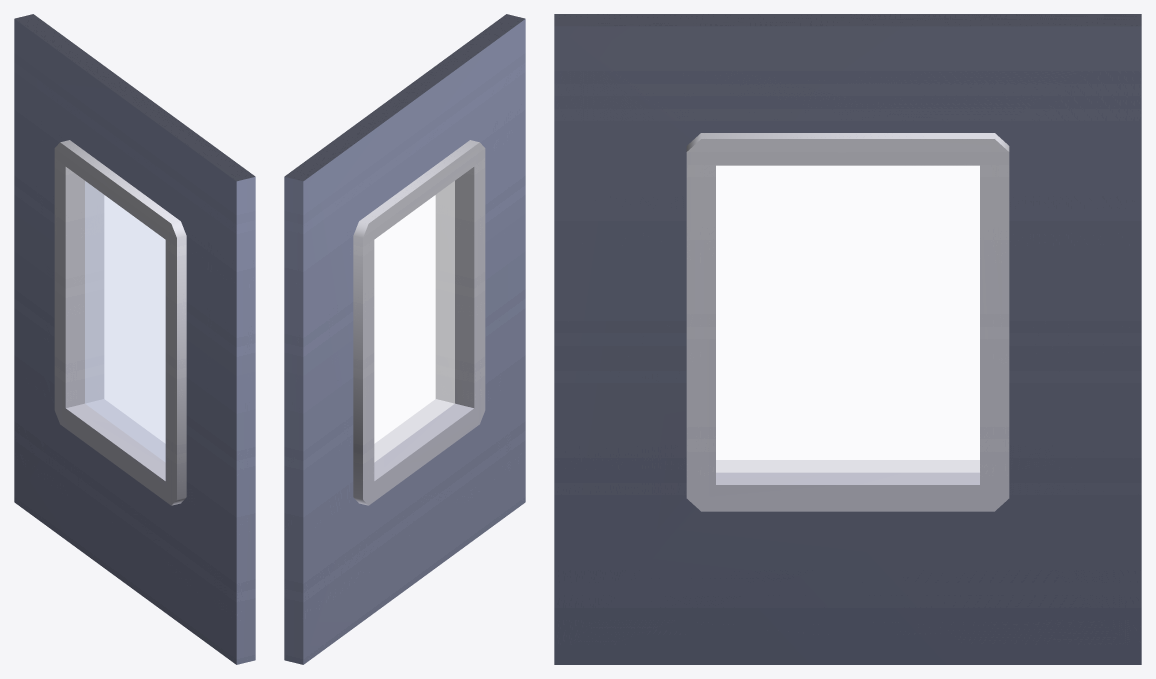
The model's file is wall-window-square.glb.
3 renders of one model, left to right at view 1: azimuth 30°, elevation 25°; view 2: azimuth 150°, elevation 25°; view 3: azimuth 270°, elevation 25°, orthographic. The views are drawn at different scales.
Parts seen in each view (by area): view 1: wall-window-square, (%ignore); view 2: wall-window-square, (%ignore); view 3: wall-window-square, (%ignore).
Boxes of the visible parts, left/top/right/bottom form: wall-window-square: left=14, top=14, right=255, bottom=664; (%ignore): left=85, top=181, right=165, bottom=462; wall-window-square: left=284, top=14, right=525, bottom=664; (%ignore): left=374, top=181, right=454, bottom=462; wall-window-square: left=554, top=14, right=1141, bottom=664; (%ignore): left=716, top=165, right=979, bottom=472.
Size of the model in its own units: 0.2 by 2.4 by 2.
2 materials, 1 textured.
